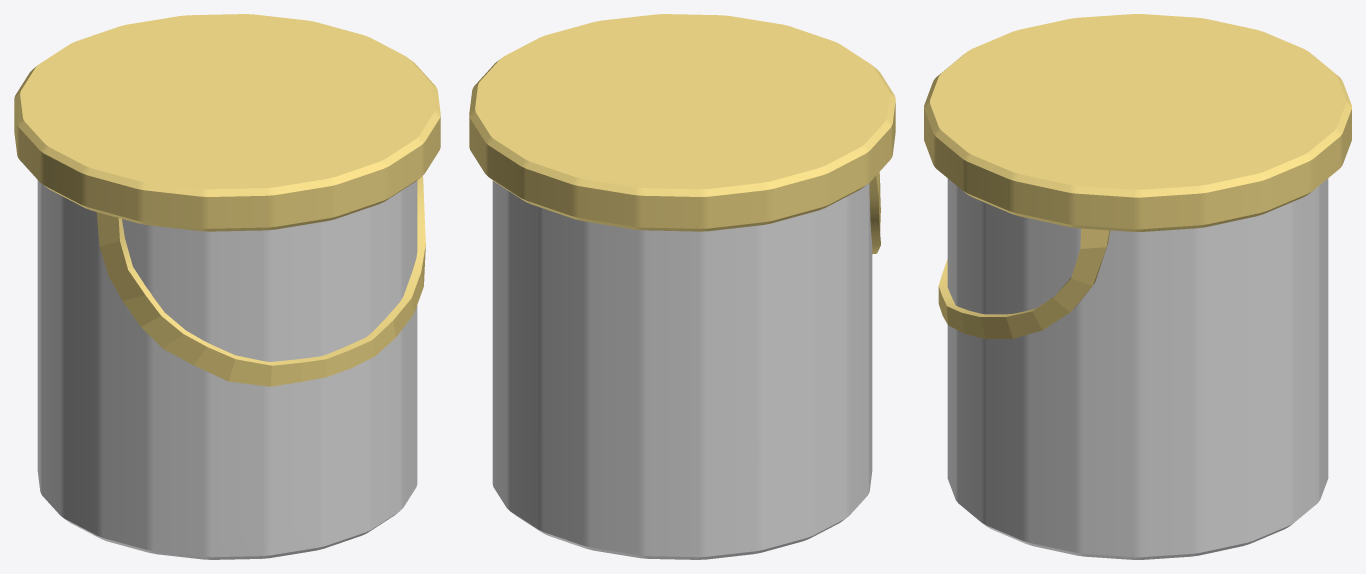
Rendered from Ürün18.fbx.
3 renders of one model, left to right at view 1: azimuth 30°, elevation 25°; view 2: azimuth 150°, elevation 25°; view 3: azimuth 270°, elevation 25°, orthographic.
Visible parts, largest first — view 1: pCylinder8; view 2: pCylinder8; view 3: pCylinder8.
Boxes of the visible parts, <box> form: pCylinder8: <box>14,14,440,559</box>; pCylinder8: <box>469,14,895,559</box>; pCylinder8: <box>924,14,1351,559</box>.
Bounding box in the file's own units: 20.06 × 19.68 × 20.06.
